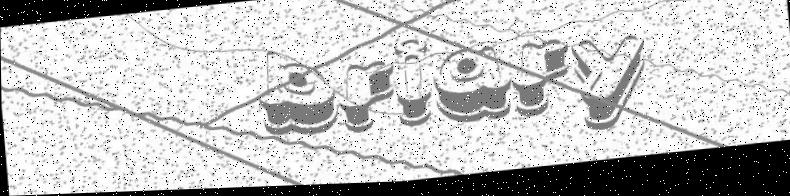a: (429, 47, 514, 131)
b: (254, 46, 341, 142)
i: (392, 39, 434, 134)
r: (510, 41, 572, 124), (336, 61, 398, 141)
y: (569, 37, 652, 140)
